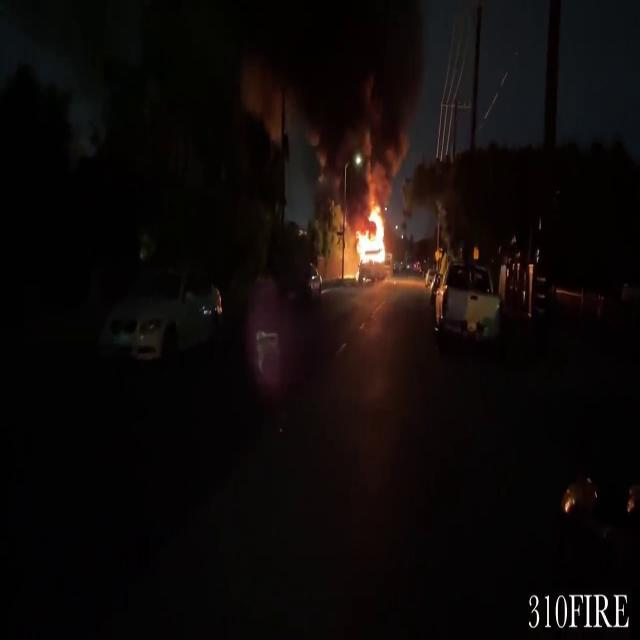Fire: (350, 199, 392, 277)
Smoke: (232, 0, 432, 182)
